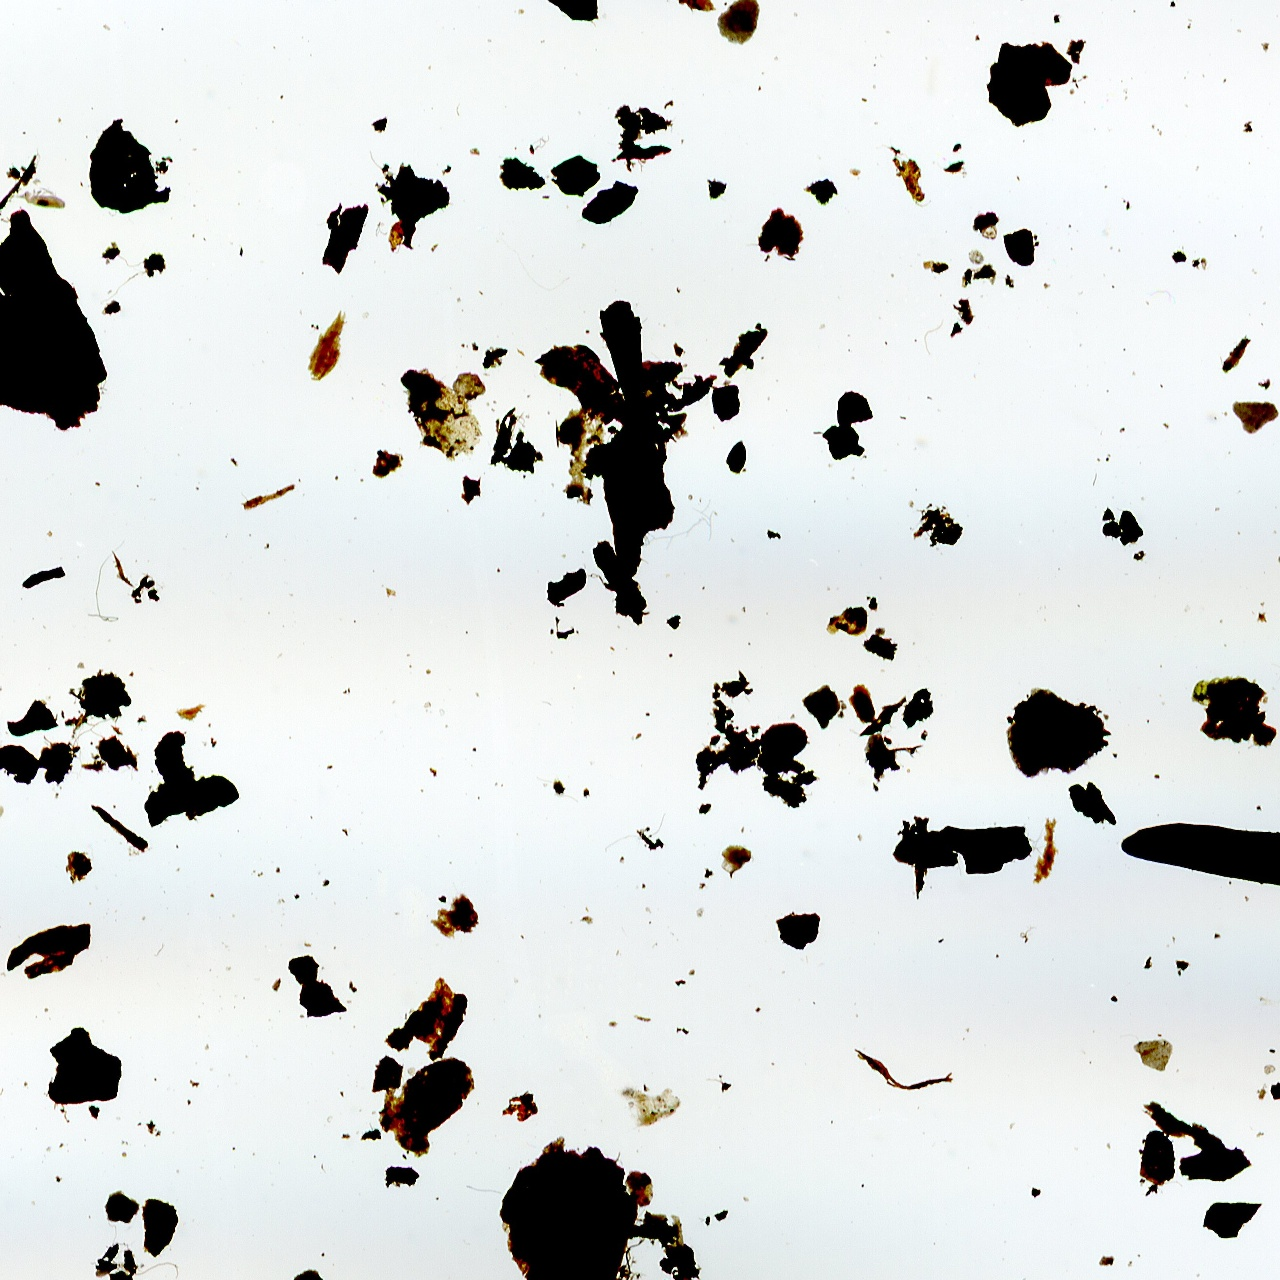arthropod: (12, 183, 67, 211)
